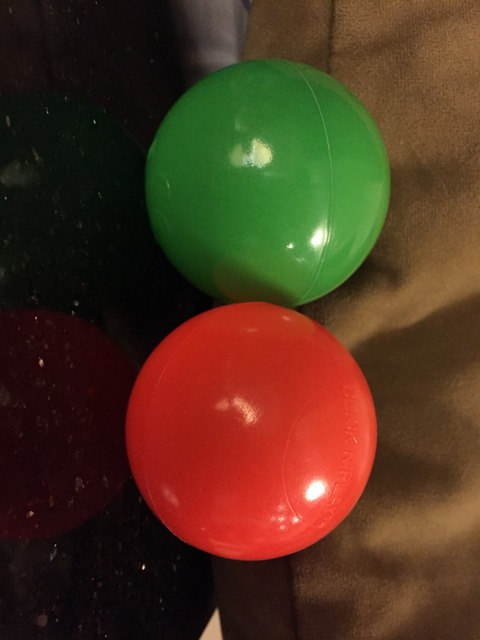Ball: (145, 60, 387, 308)
